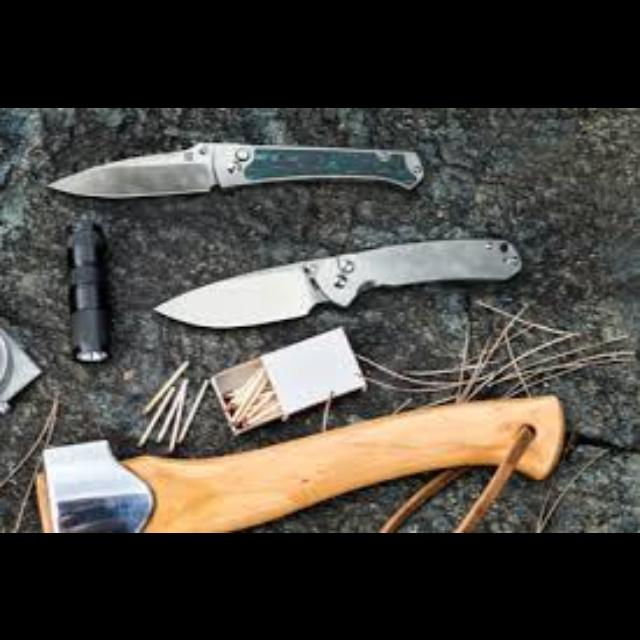knife: (151, 235, 521, 328), (44, 140, 423, 198)
